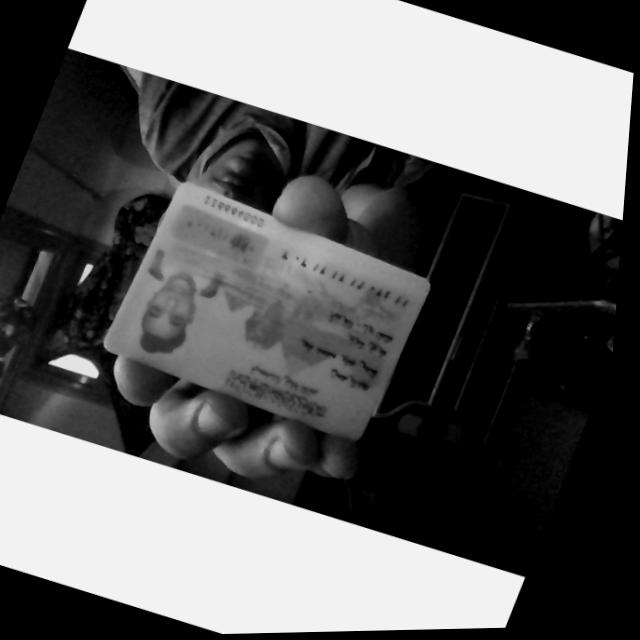front: (104, 184, 429, 439)
